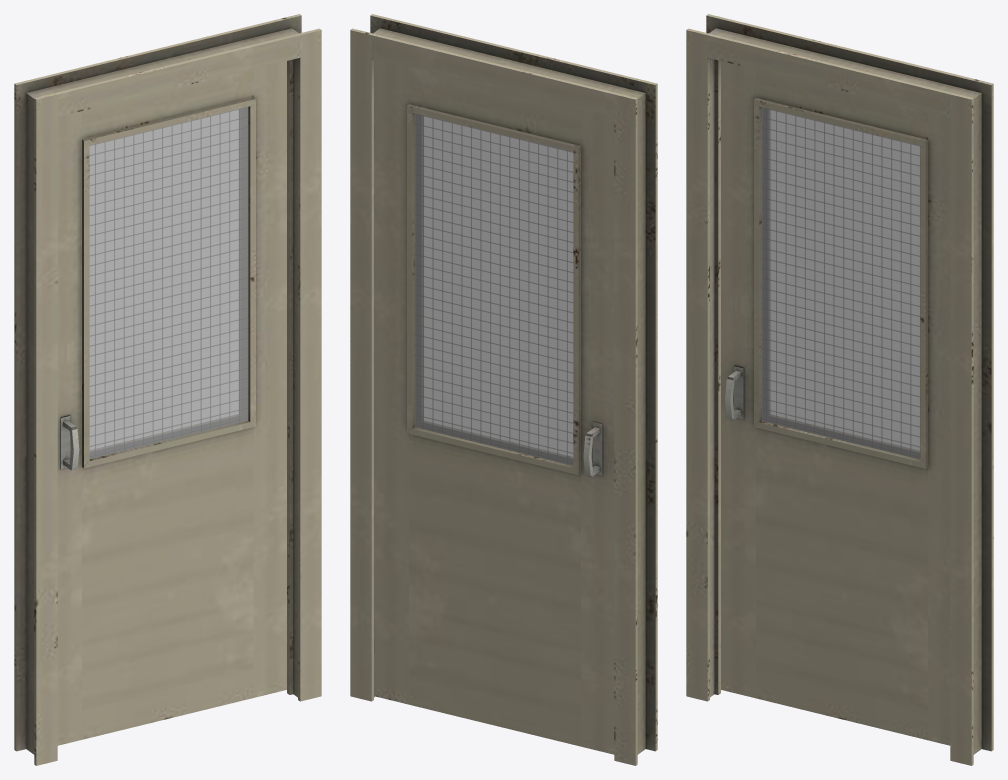
File: door_glass_lod1_web.glb
The picture shows the model from 3 angles, left to right: view 1: azimuth 30°, elevation 25°; view 2: azimuth 150°, elevation 25°; view 3: azimuth 330°, elevation 25°; orthographic projection.
Parts seen in each view (by area): view 1: Door_Mesh, DoorGlass_Frame, Glass_Door; view 2: Door_Mesh, DoorGlass_Frame, Glass_Door; view 3: Door_Mesh, DoorGlass_Frame, Glass_Door.
Boxes of the visible parts, box(x1,y1,x2,y2) form: Door_Mesh: box(57, 61, 286, 745); DoorGlass_Frame: box(14, 14, 321, 765); Glass_Door: box(89, 107, 248, 458); Door_Mesh: box(374, 58, 614, 754); DoorGlass_Frame: box(350, 14, 657, 765); Glass_Door: box(414, 113, 573, 465); Door_Mesh: box(721, 61, 950, 745); DoorGlass_Frame: box(686, 14, 993, 765); Glass_Door: box(761, 107, 920, 459).
Size of the model in its own units: 0.93 by 2.07 by 0.1729.
2 materials, 2 textured.
